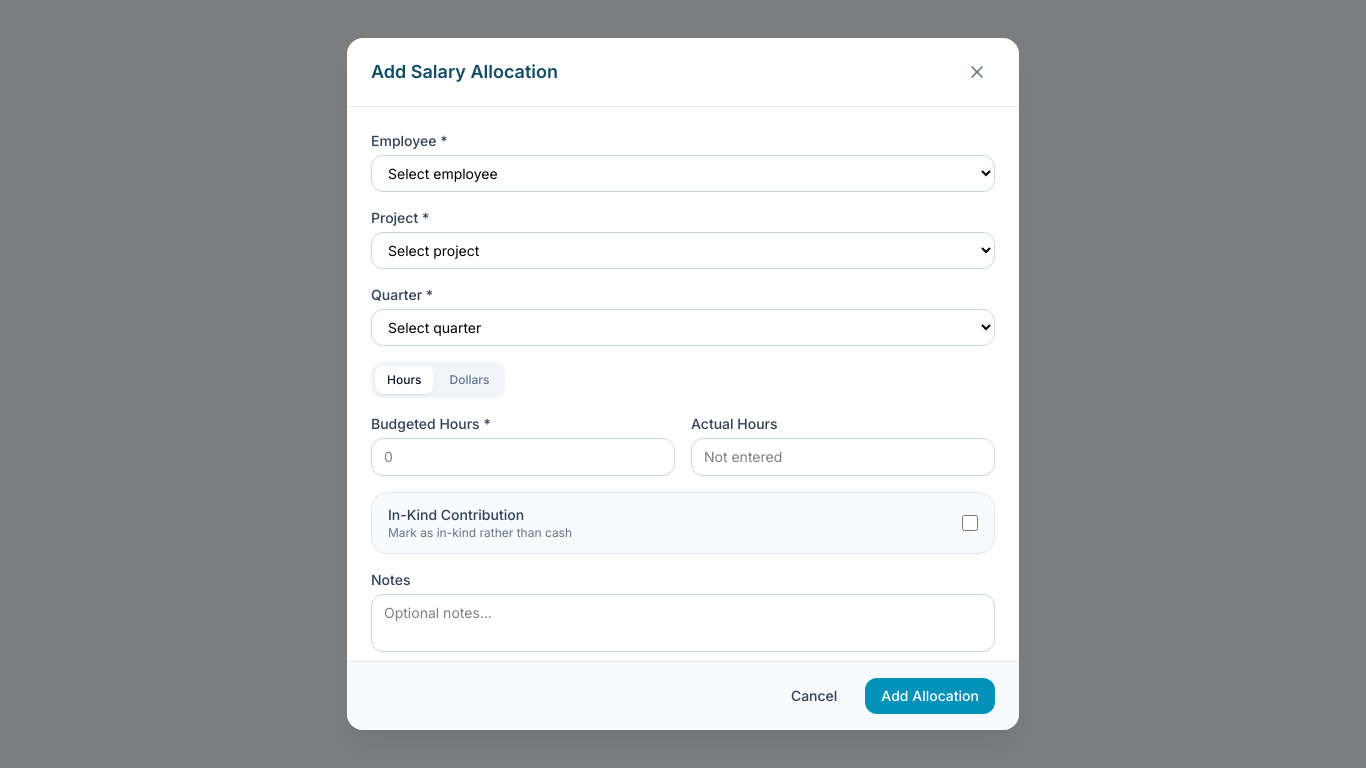
AllocationFormModal › validates required fields
The width and height of the screenshot is (1366, 768).
Click the button "Add Allocation". click: (930, 696)
box: [865, 678, 995, 714]
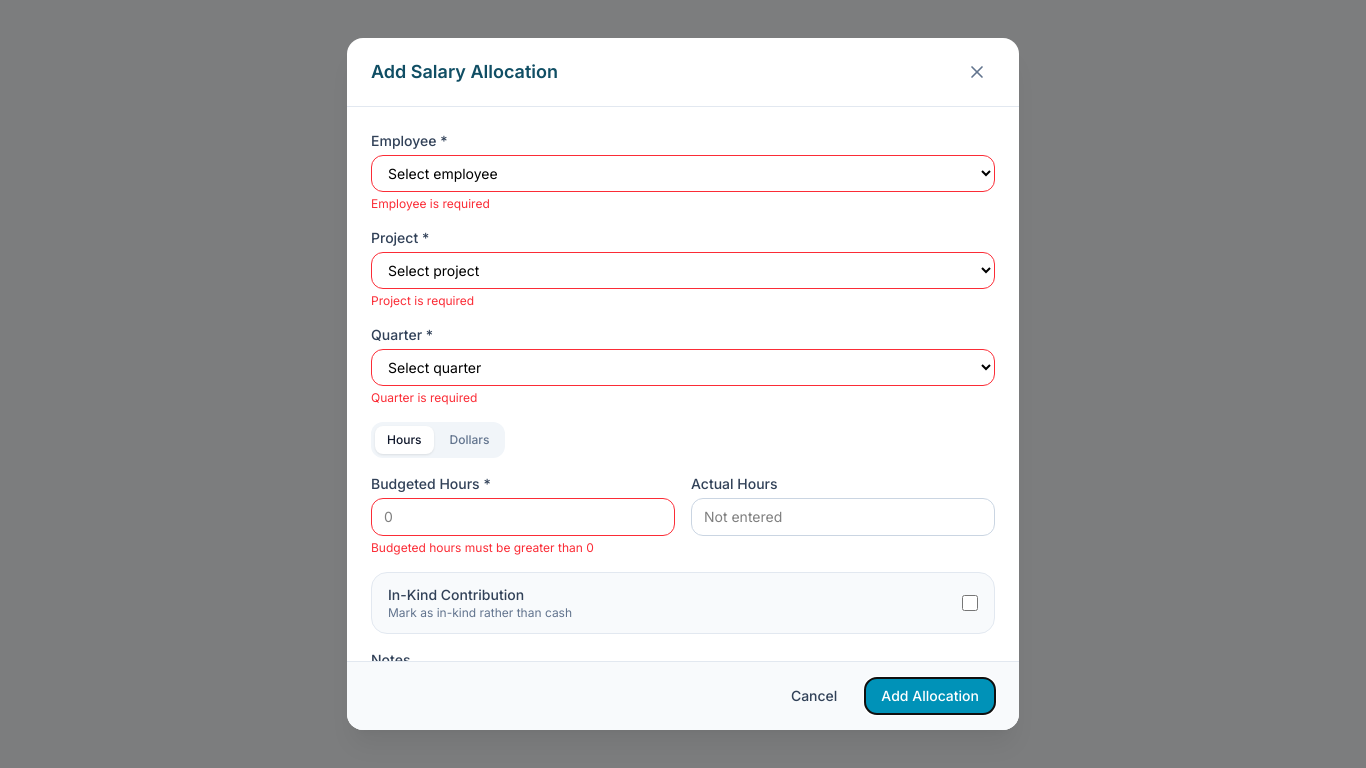
Now the text "Employee is required" is shown, box [371, 196, 490, 211]
Now the text "Project is required" is shown, box [371, 293, 474, 308]
Now the text "Quarter is required" is shown, box [371, 390, 477, 405]
